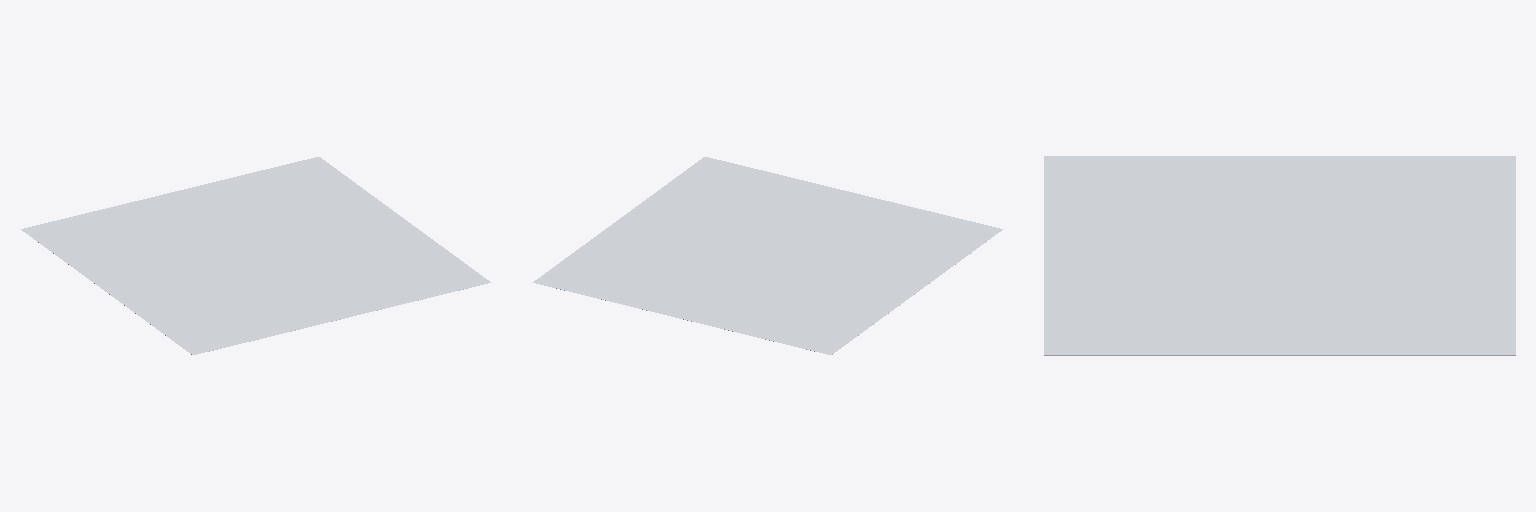
The robot description file, URDF, robot "simpleplane":
<?xml version="1.0"?> 
<robot name="simpleplane">
    <!-- Colors --> 
    <material name="grey"> 
        <color rgba="0.91 0.925 0.945 1"/>
    </material>

    <!-- Plane -->
    <link name="base_link">
        <visual> 
            <geometry> 
                <box size="50 50 0.01"/>
                <origin rpy="0 0 0" xyz="-25 -25 -0.005"/>
            </geometry>
            <material name="grey"/>
        </visual>
        <collision> 
             <geometry> 
                <box size="50 50 0.01"/>
                <origin rpy="0 0 0" xyz="-25 -25 -0.005"/>
            </geometry>
        </collision> 
        <inertial> 
            <mass value="0"/>
            <inertia ixx="0" ixy="0" ixz="0" iyy="0" iyz="0" izz="0"/>
        </inertial> 
        <contact> 
            <lateral_friction value="4"/>
        </contact>
    </link> 
</robot>

--- Render facts (derived) ---
3 views of the same robot in one strip: view 1: azimuth 30°, elevation 25°; view 2: azimuth 150°, elevation 25°; view 3: azimuth 270°, elevation 25° (orthographic).
Model simpleplane with 1 links and 0 joints (none), rooted at base_link, posed all joints at 0.
Links seen in each view (by area): view 1: base_link; view 2: base_link; view 3: base_link.
Boxes of the visible links, <box> form: base_link: <box>21,157,490,354</box>; base_link: <box>533,157,1002,354</box>; base_link: <box>1044,156,1515,355</box>.
Size in the robot's own frame: 50 by 50 by 0.01 metres.
Geometry: primitives only (box / cylinder / sphere), no mesh files.
